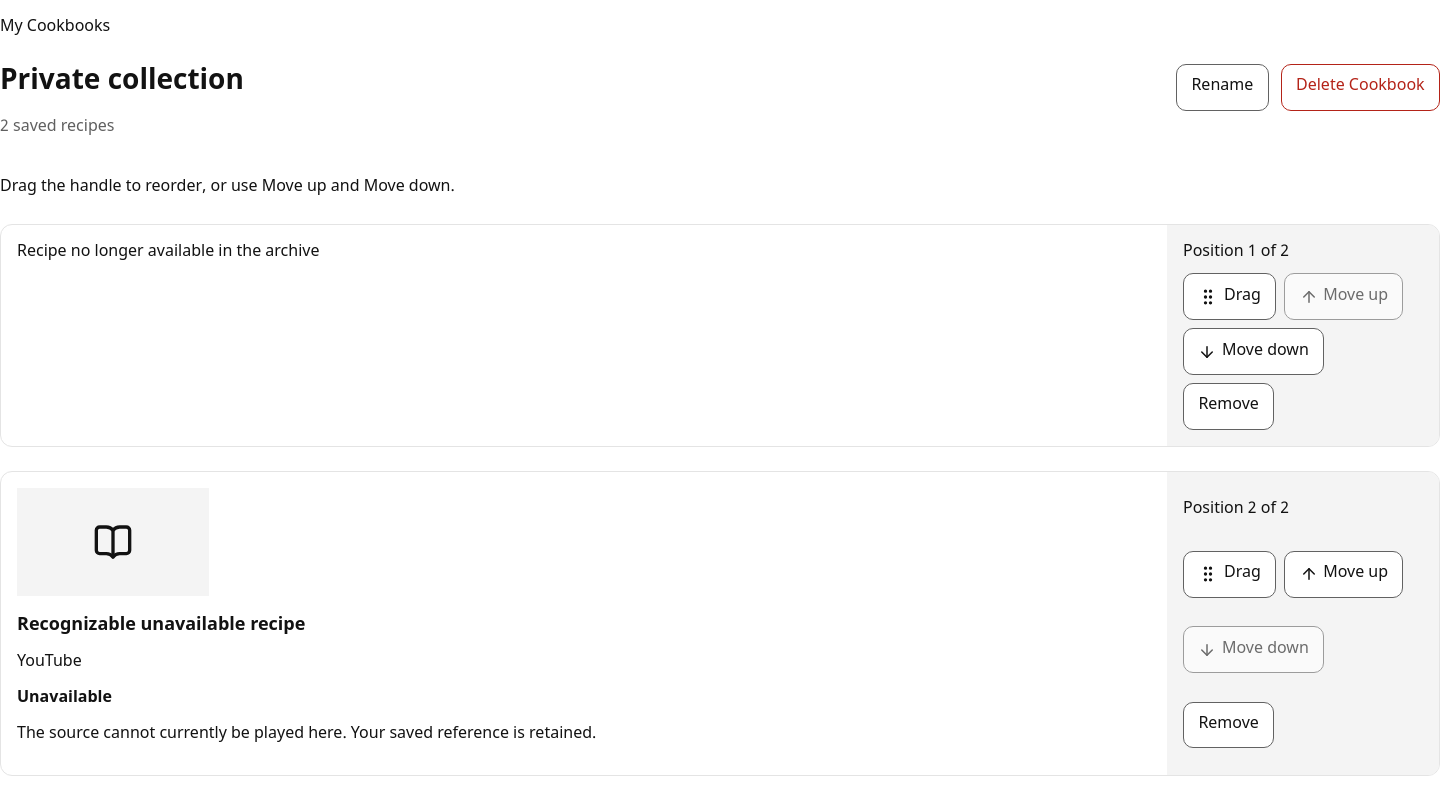
requires a separate confirmation before deleting and cancellation preserves the collection
Click the button "Delete Cookbook" at (1360, 87), box 1281,64 -> 1439,111
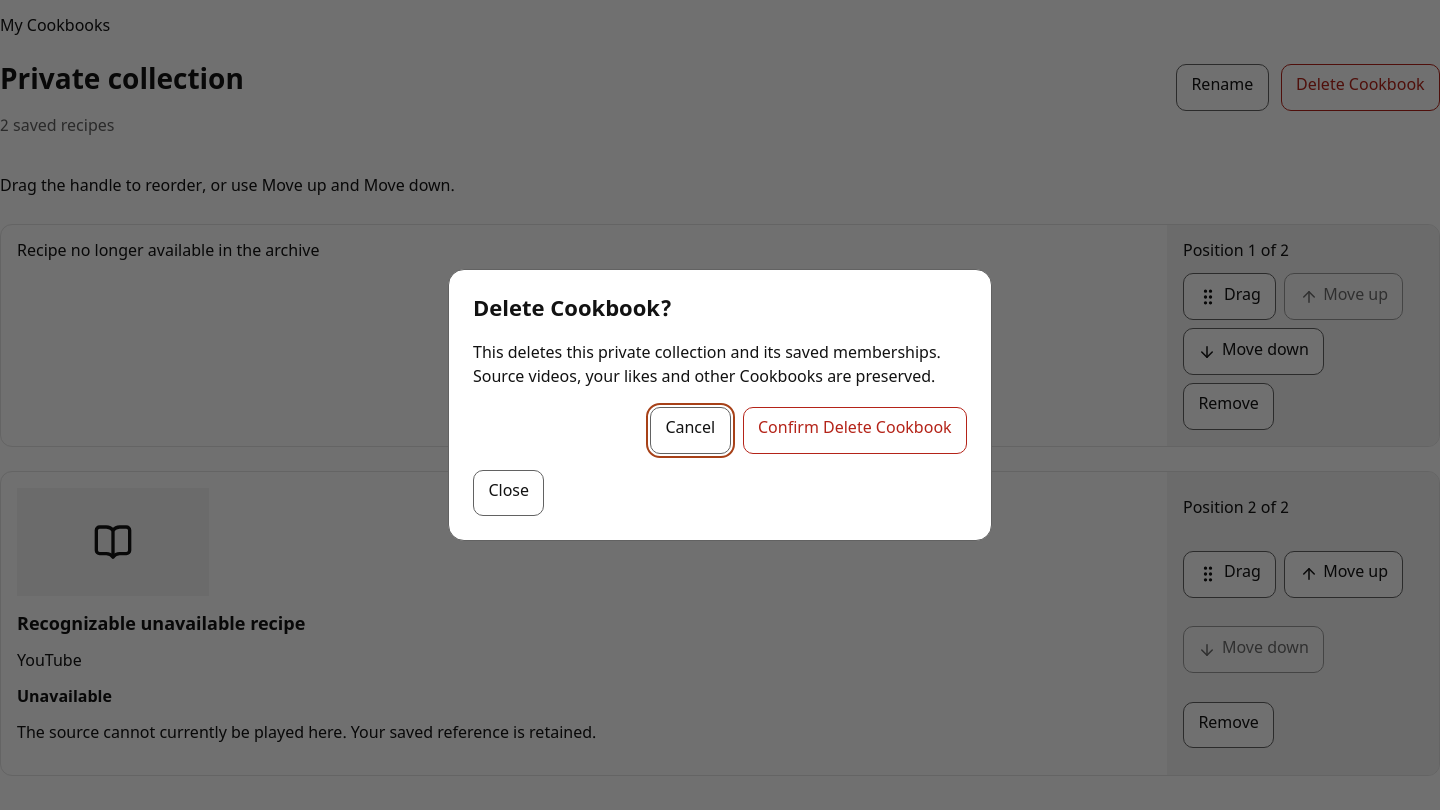
Now the dialog shows "Source videos, your likes and other Cookbooks are preserved.", box 473,344 -> 941,389
Click the button "Cancel" at (690, 430), box 650,407 -> 731,454
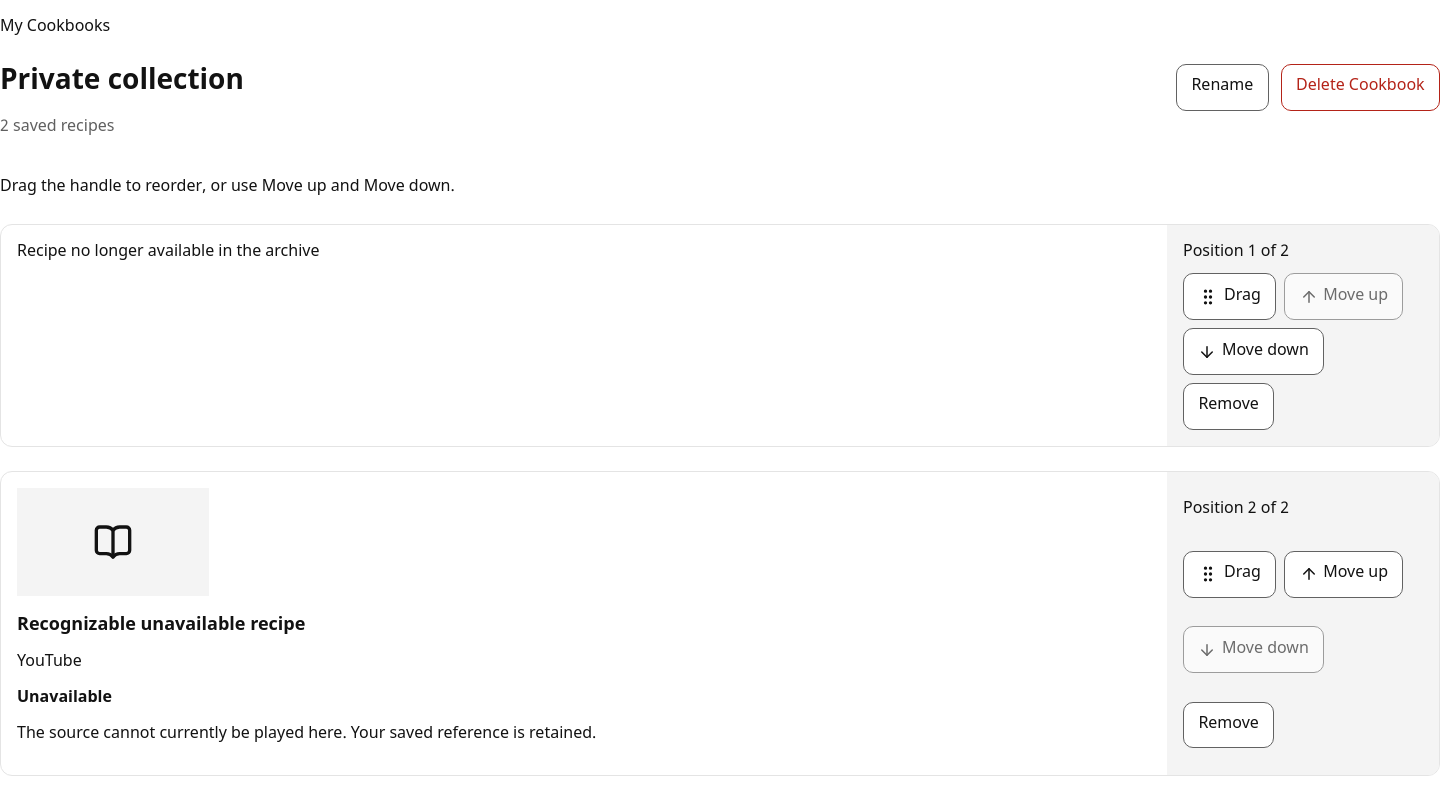
Now the dialog is gone
